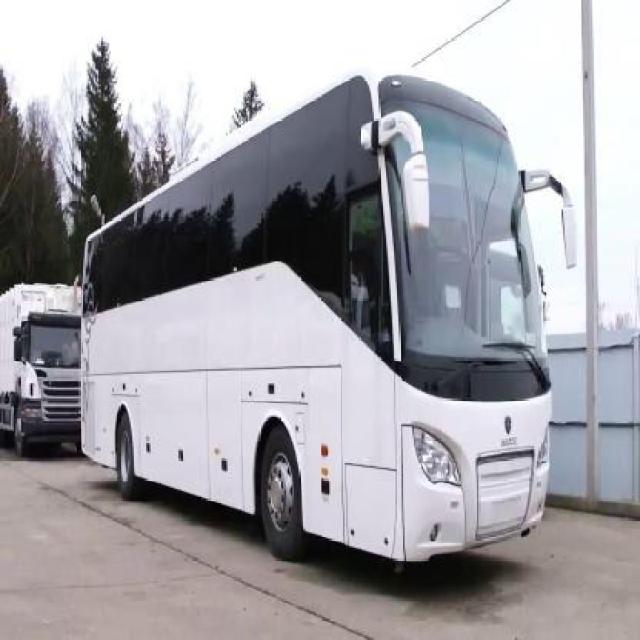bus: (81, 69, 582, 568)
